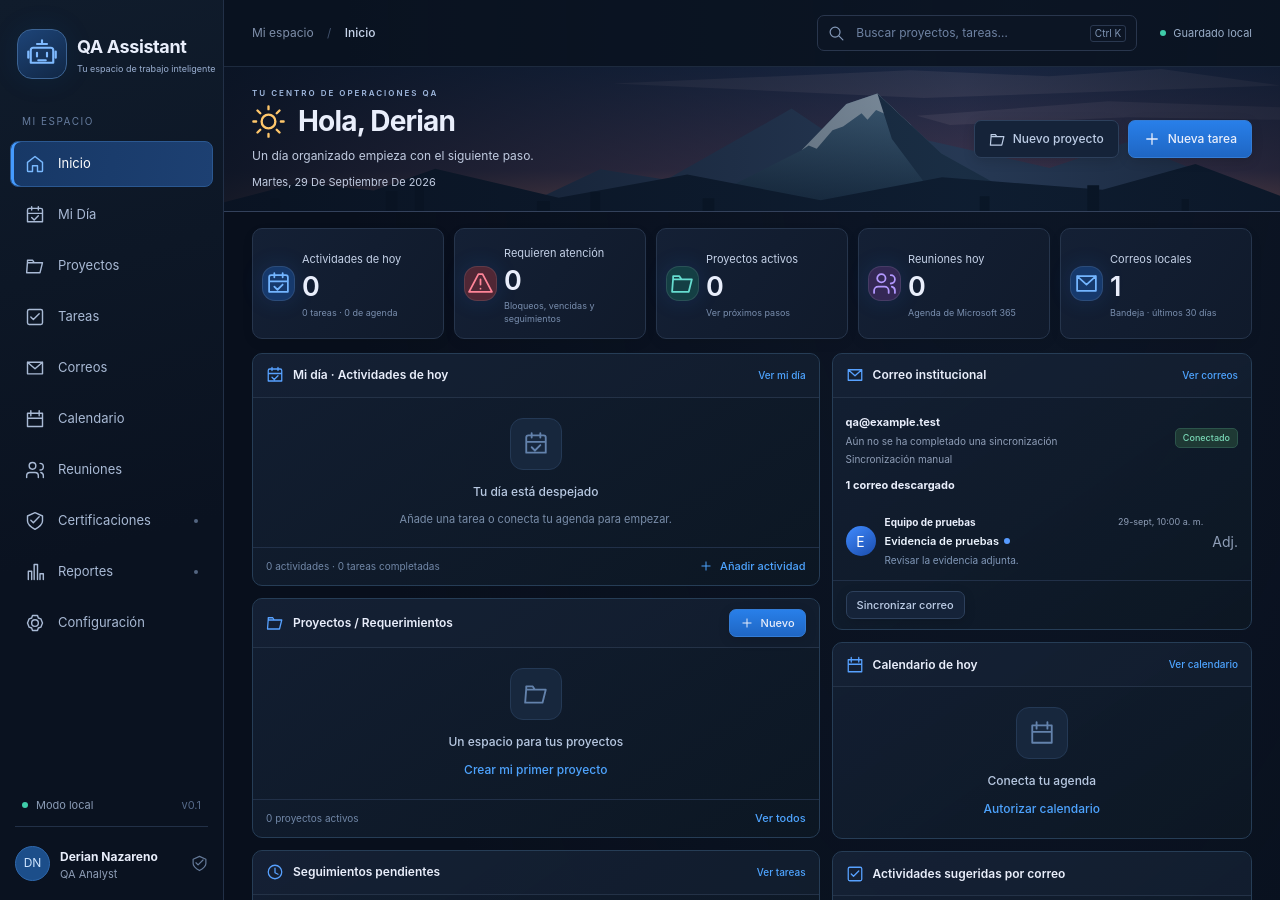
Scenario: abre un borrador revisable desde Inicio y solo crea la tarea al guardar
What coordinates should you click on to do the following:
click the button "Evidencia de pruebas"
I would click on:
 (930, 522)
Its box is [846, 503, 1238, 580].
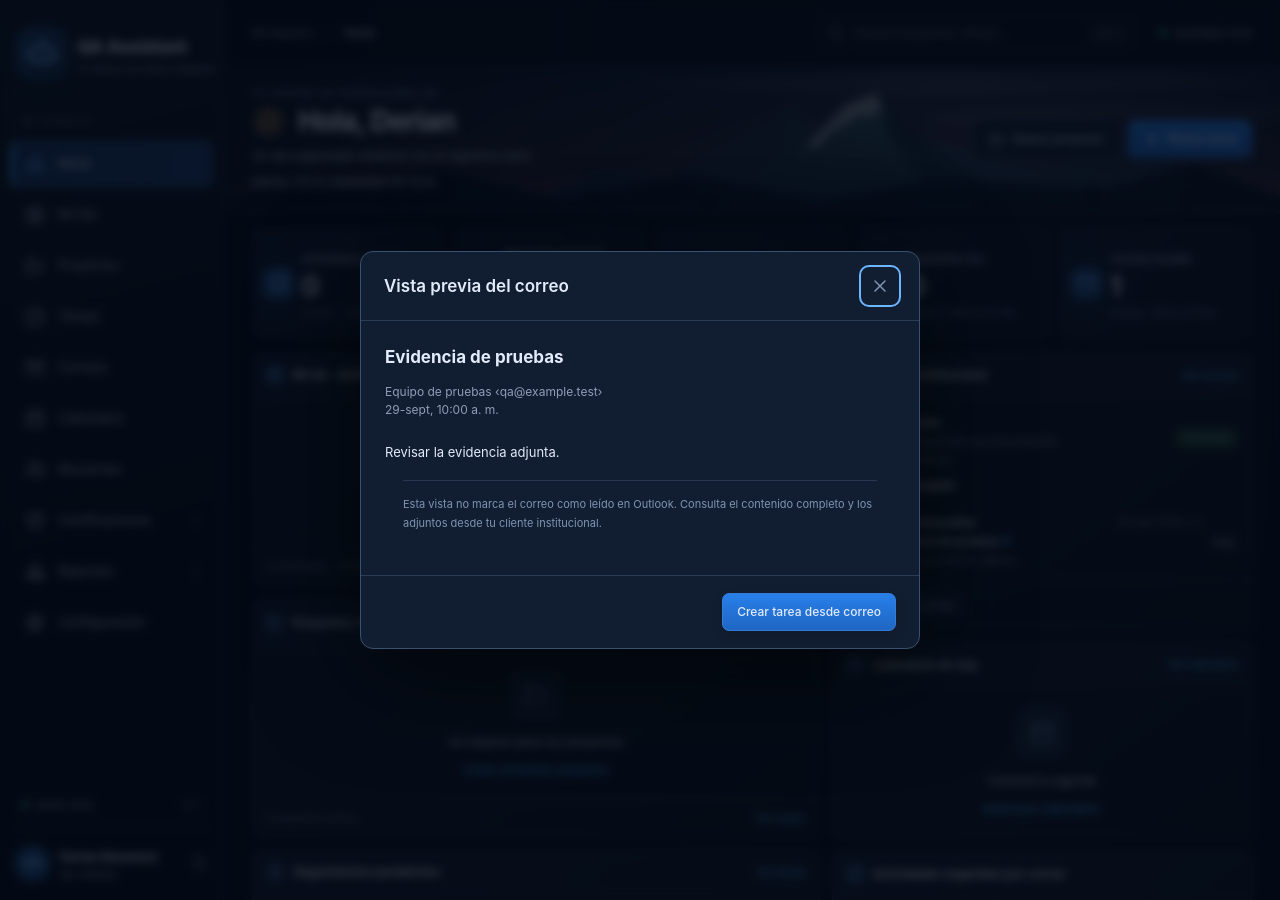
What coordinates should you click on to do the following:
click the button "Crear tarea desde correo"
I would click on:
 (809, 612)
Its box is [722, 593, 896, 631].
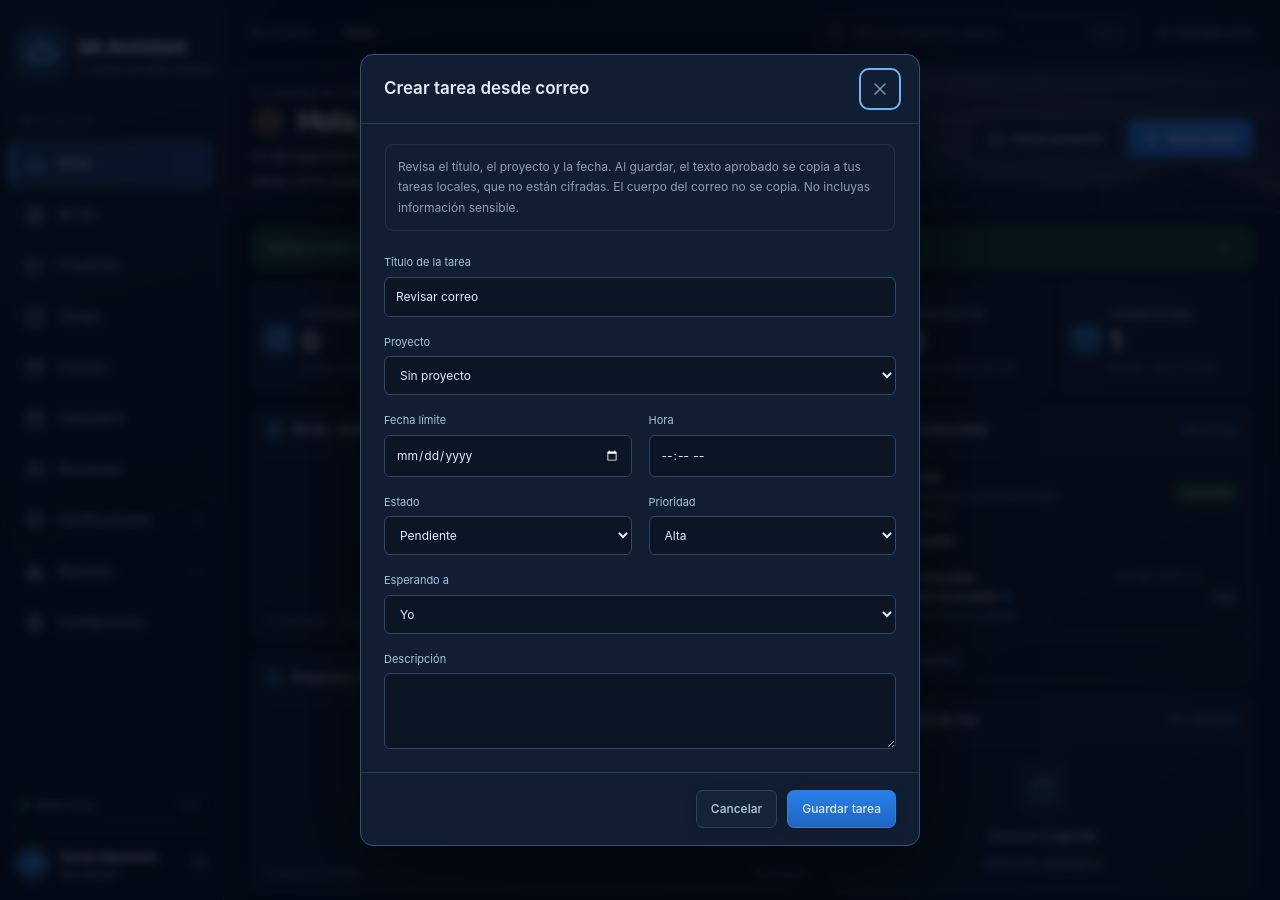
Result: the heading "Crear tarea desde correo" is shown at [384, 76, 589, 102]
Result: the field labelled "Título de la tarea" holds "Revisar correo" at [384, 277, 896, 317]
Result: the date field labelled "Fecha límite" is empty at [384, 435, 632, 477]
What coordinates should you click on to do the following:
click the button "Cancelar"
I would click on:
 (737, 809)
Its box is [696, 790, 777, 828].
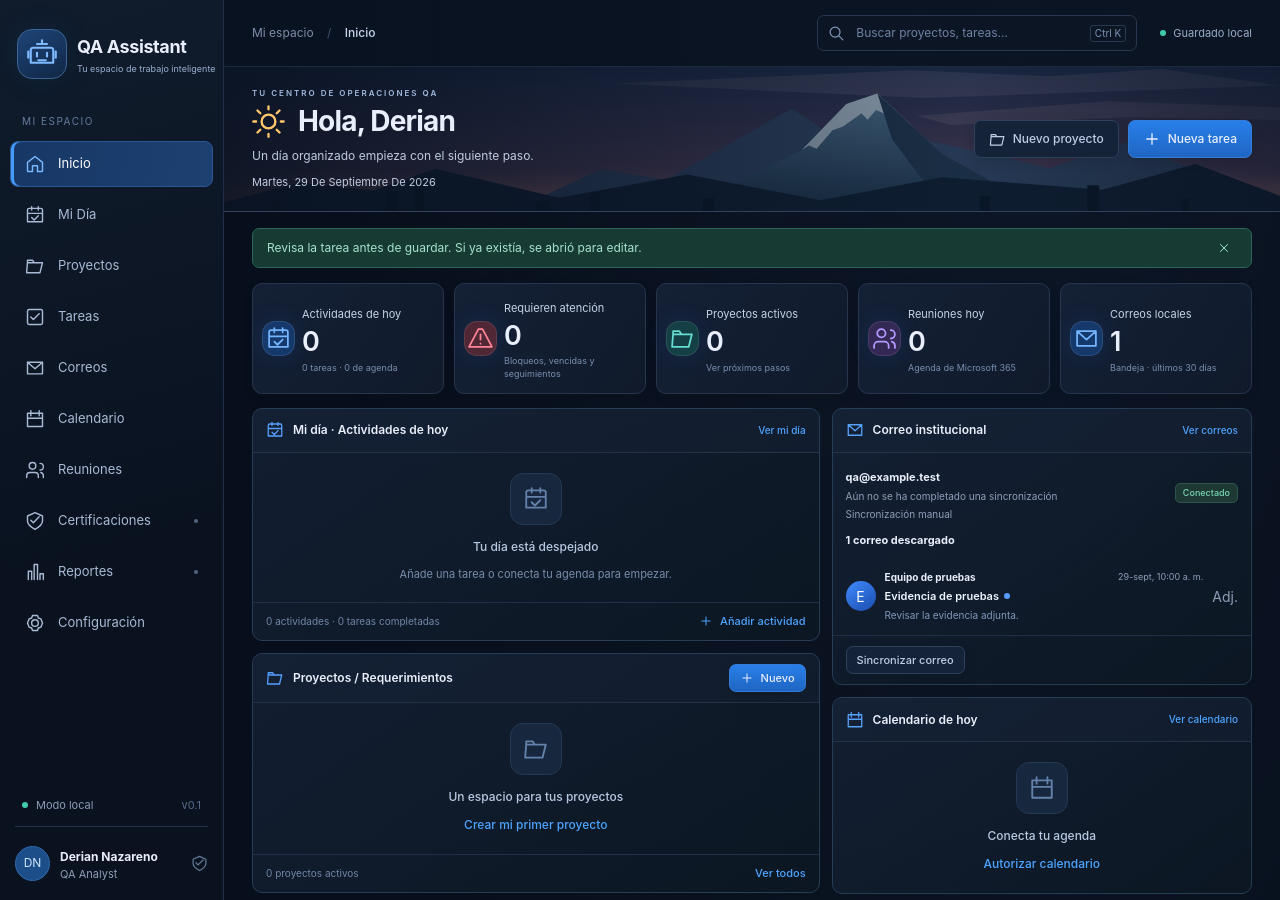
What coordinates should you click on to do the following:
click the button "Evidencia de pruebas"
I would click on:
 (930, 577)
Its box is [846, 558, 1238, 635].
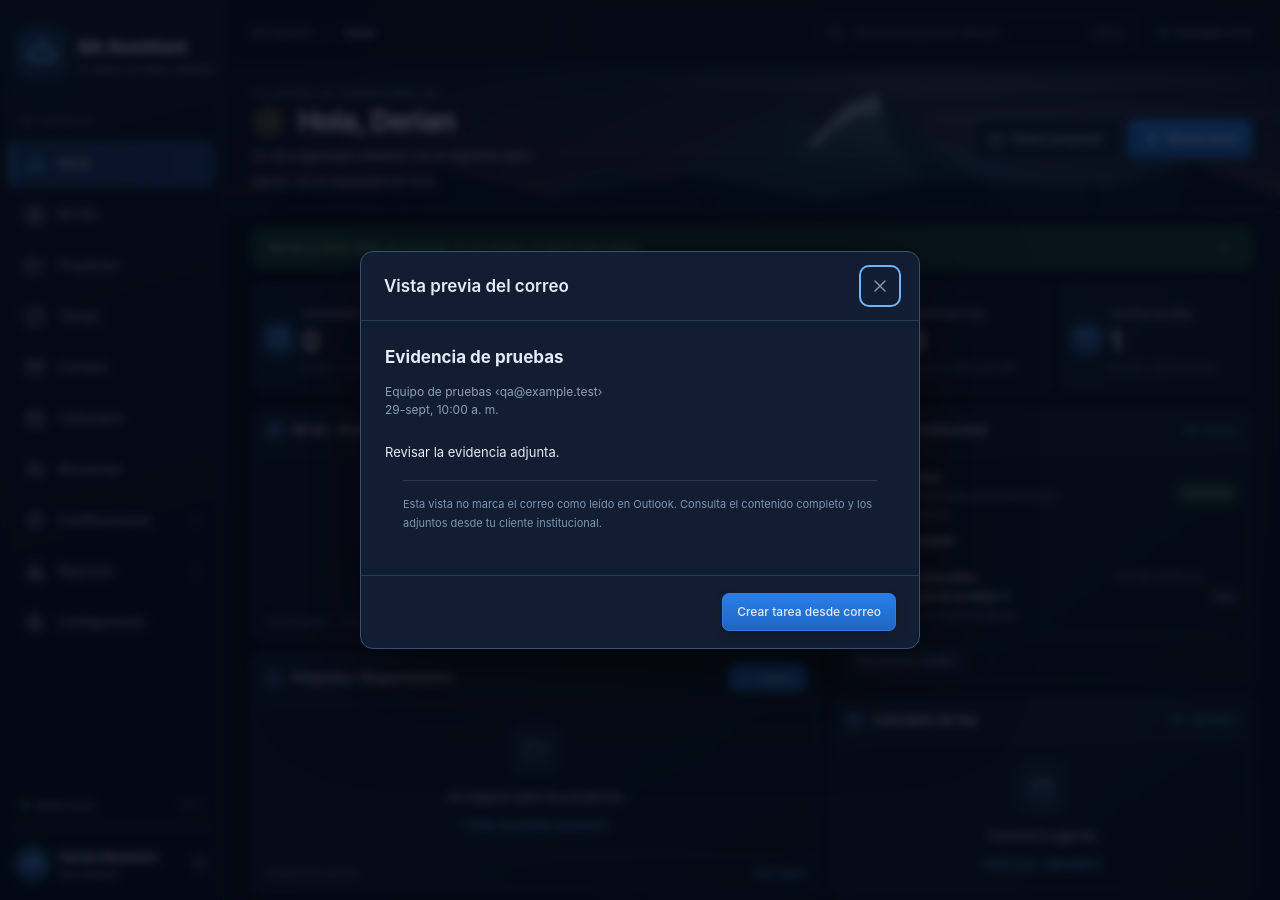
What coordinates should you click on to do the following:
click the button "Crear tarea desde correo"
I would click on:
 (809, 612)
Its box is [722, 593, 896, 631].
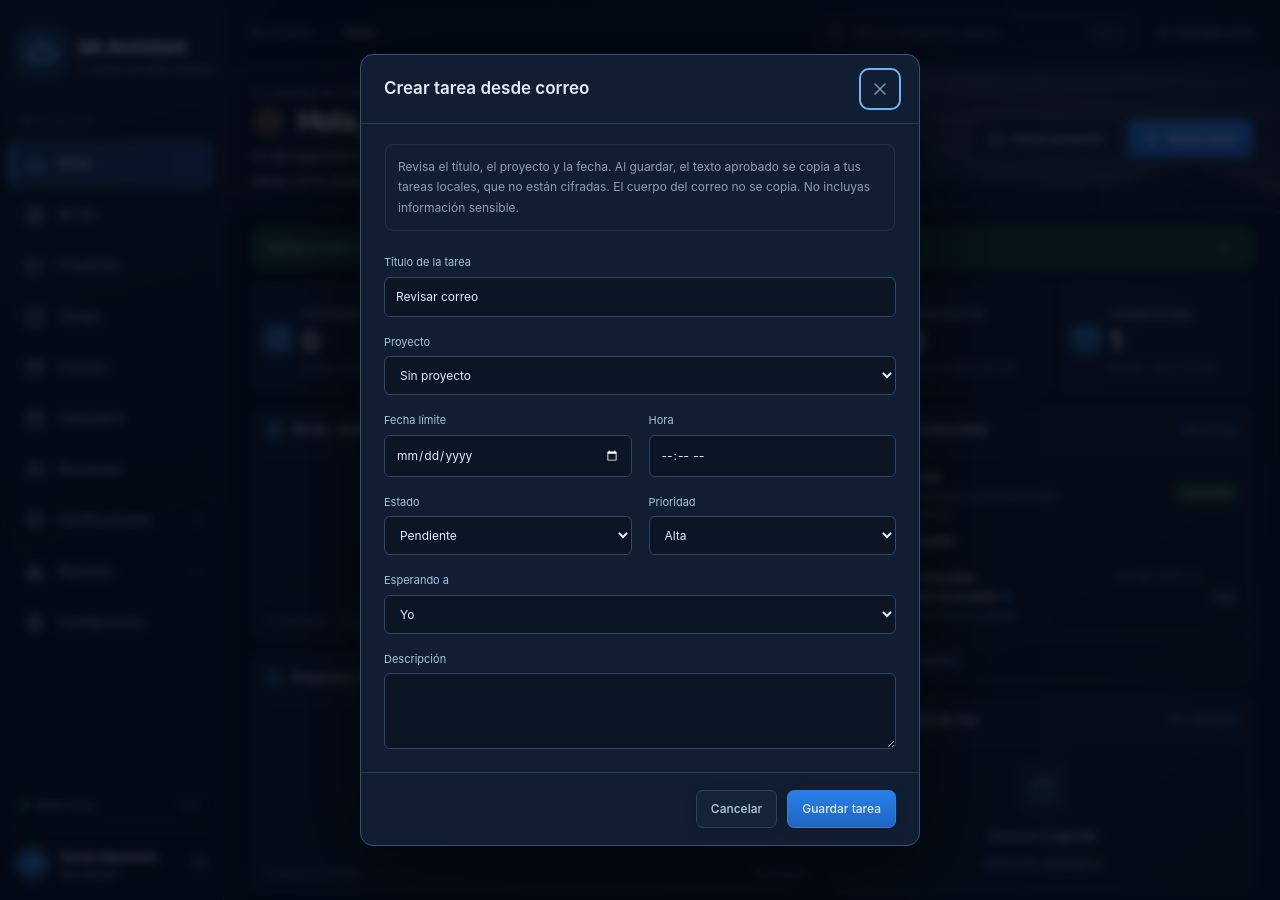
What coordinates should you click on to do the following:
click the button "Guardar tarea"
I would click on:
 (842, 809)
Its box is [787, 790, 896, 828].
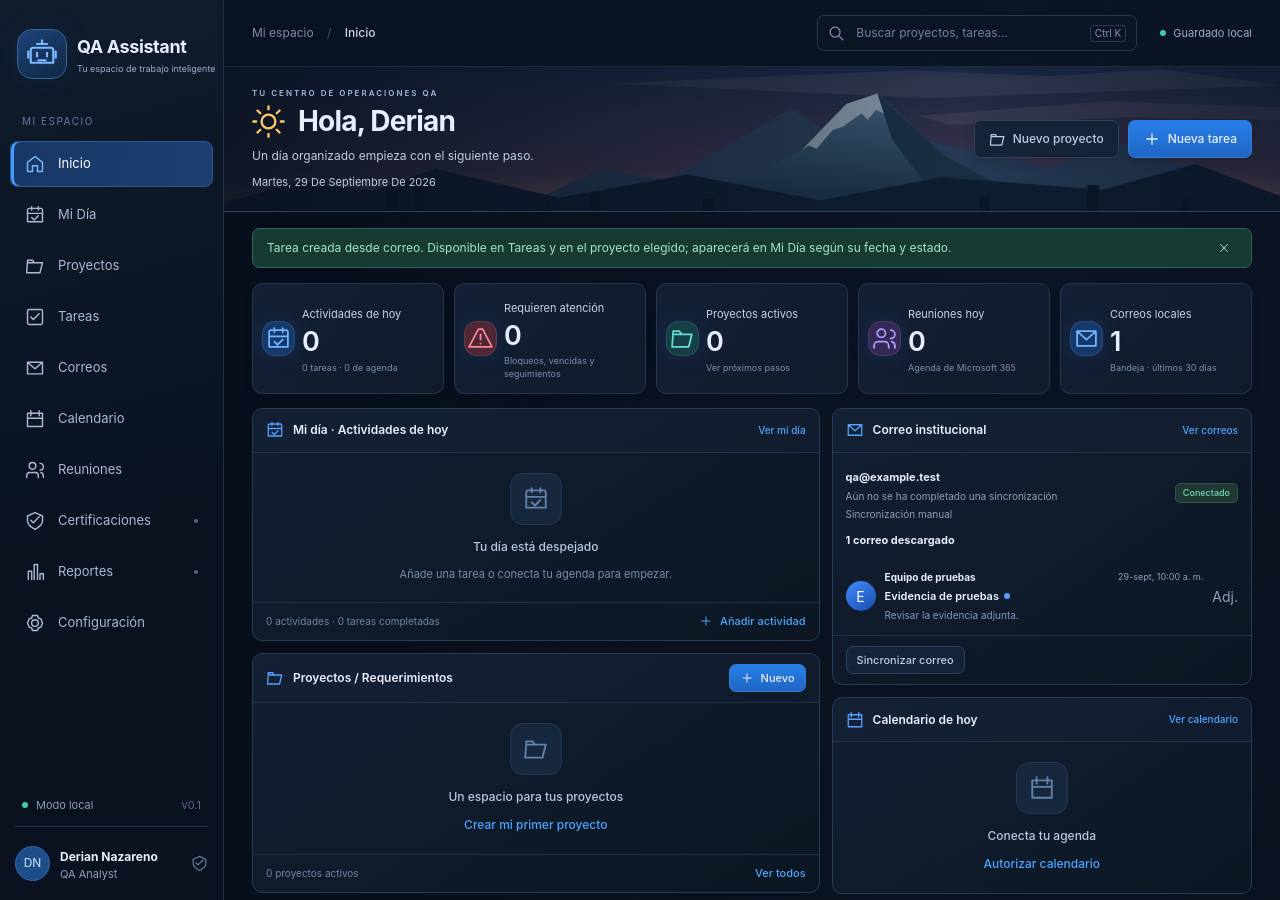
Result: the dialog is gone
